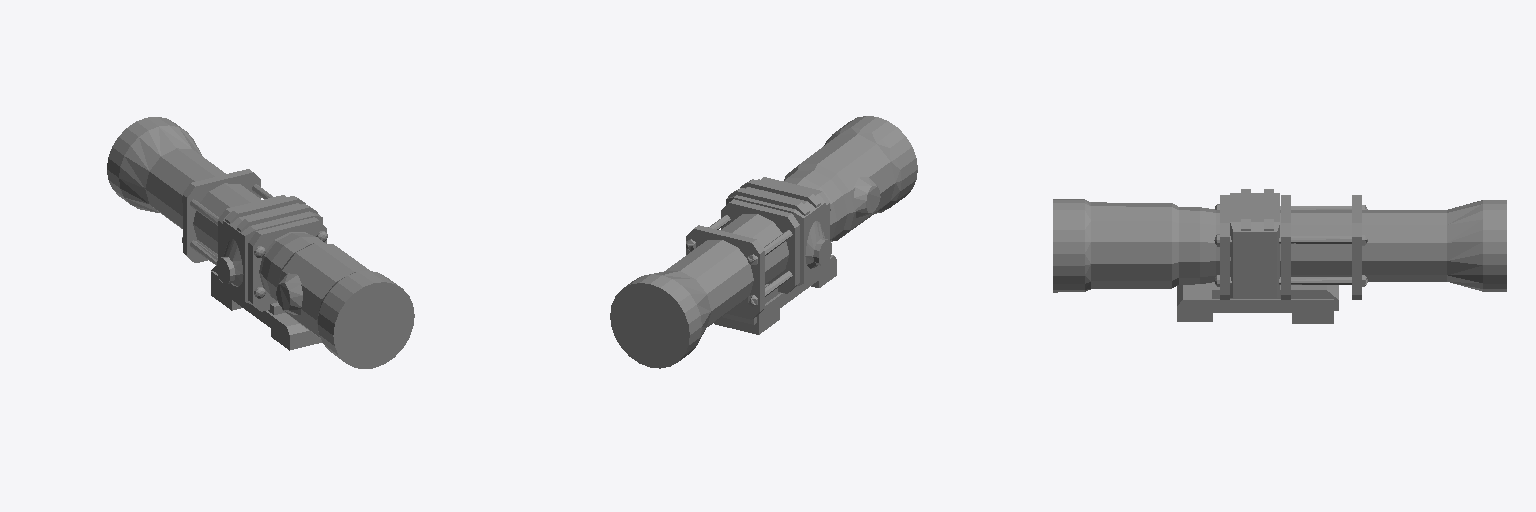
File: sight4.obj
The picture shows the model from 3 angles: view 1: azimuth 30°, elevation 25°; view 2: azimuth 150°, elevation 25°; view 3: azimuth 270°, elevation 25°; orthographic projection.
Parts seen in each view (by area): view 1: sight4; view 2: sight4; view 3: sight4.
Boxes of the visible parts, box(x1,y1,x2,y2) form: sight4: box(107, 117, 414, 368); sight4: box(610, 116, 917, 368); sight4: box(1053, 189, 1506, 323).
Size of the model in its own units: 5.66 by 6.6 by 24.76.